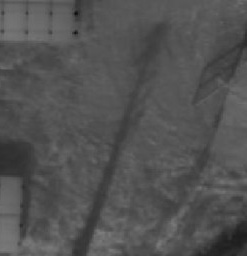solar: (48, 1, 78, 41), (22, 1, 52, 41), (1, 1, 30, 40)
